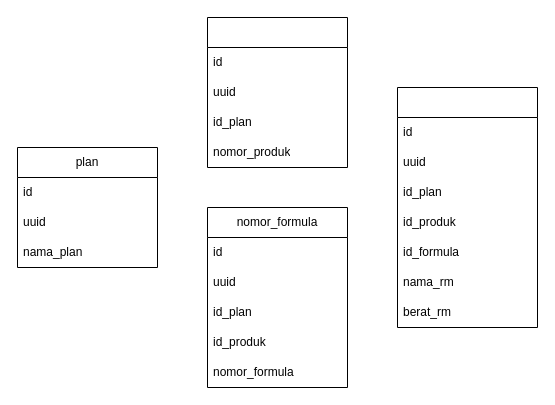
This 555x405 diagram has some shape labels left out. Each missing label, with the box of its shape:
bahan_forming: (396, 86, 538, 328)
nama_produk: (206, 16, 348, 168)
